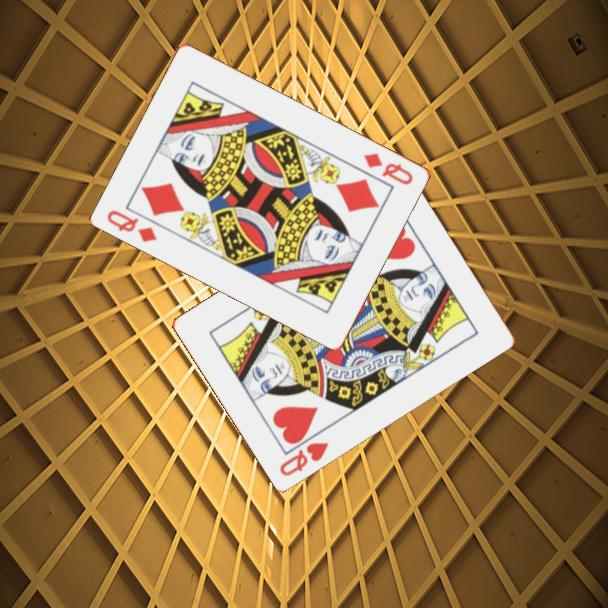d12: (360, 149, 416, 188), (104, 206, 160, 245)
h12: (276, 438, 332, 478)
